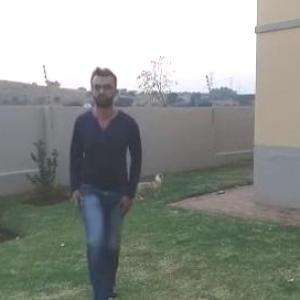follow: (71, 70, 140, 299)
